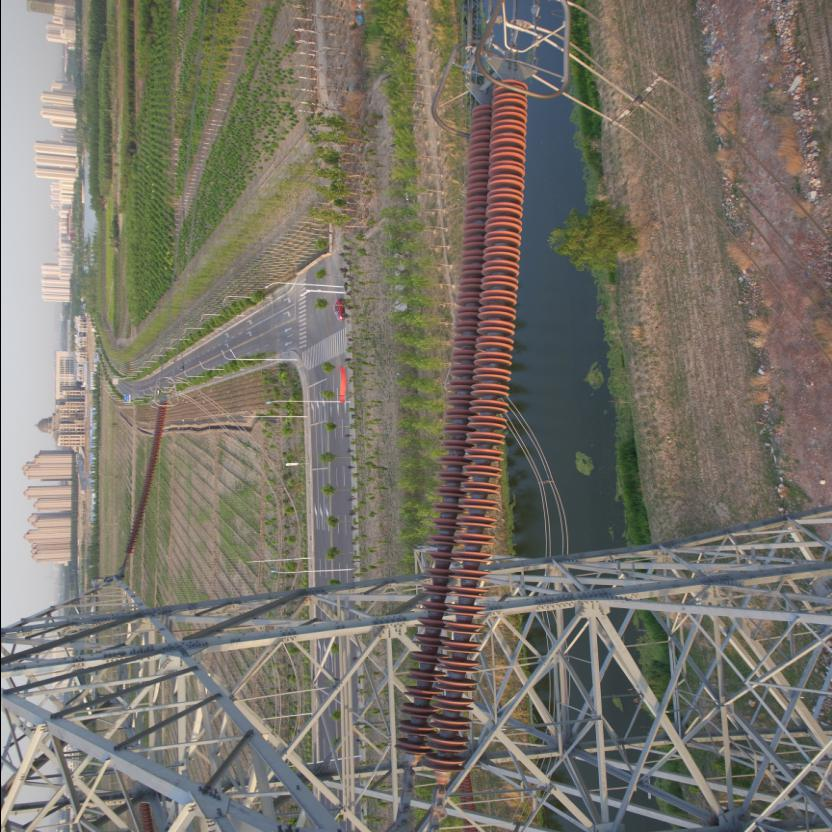insulator: (386, 69, 530, 798), (119, 395, 166, 563)
